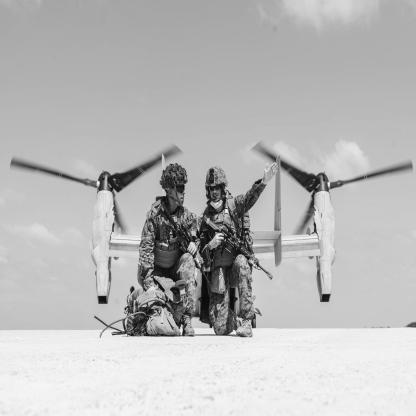V22: (11, 141, 415, 329)
